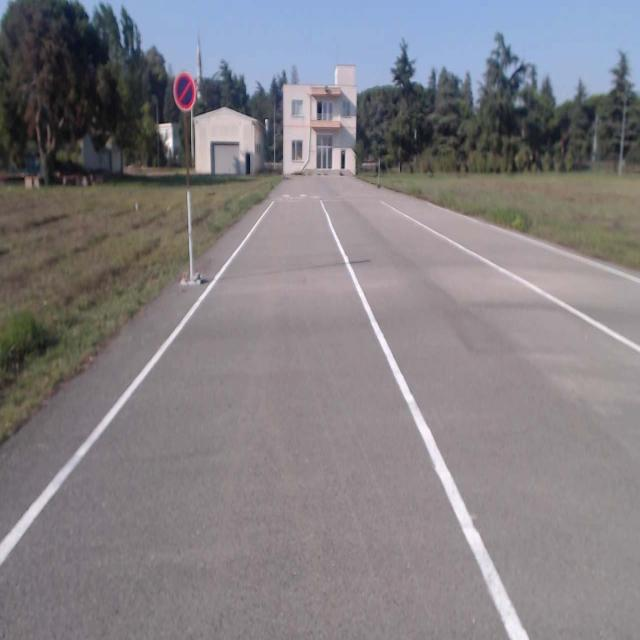parkyasak: (176, 73, 194, 108)
